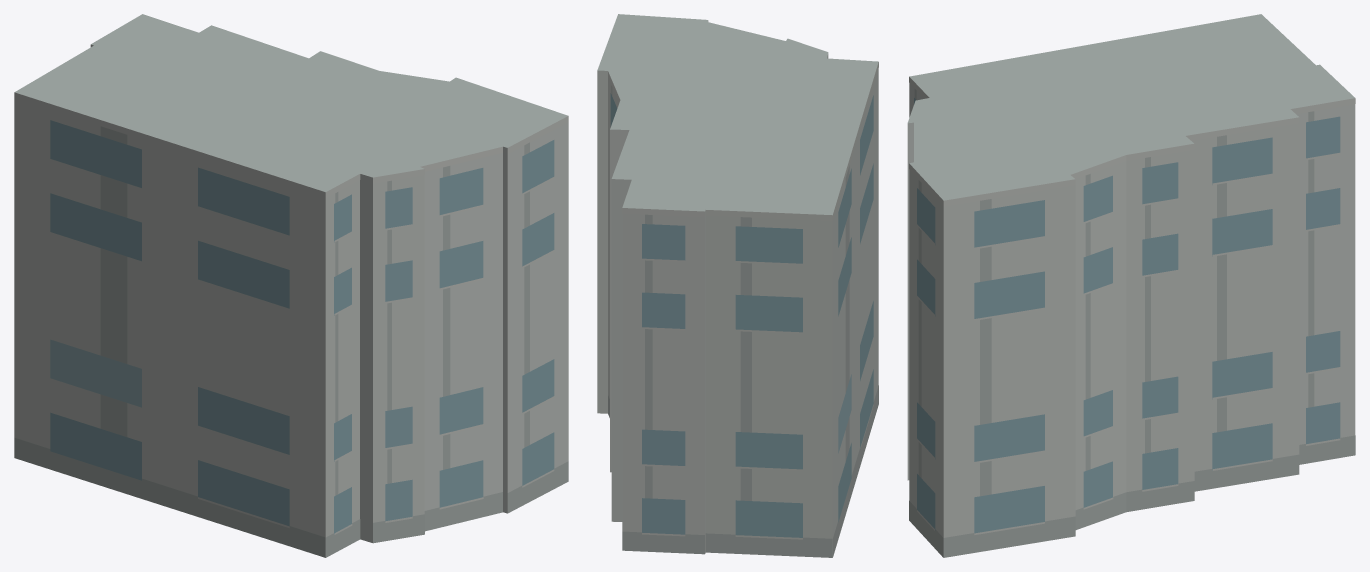
The model's file is survey-upis-32535520.glb.
3 views of the same model, side by side, from view 1: azimuth 30°, elevation 25°; view 2: azimuth 150°, elevation 25°; view 3: azimuth 270°, elevation 25° (orthographic). The views are drawn at different scales.
Visible parts, largest first — view 1: survey-upis-32535520.tmp; view 2: survey-upis-32535520.tmp; view 3: survey-upis-32535520.tmp.
Part boxes in pixels (x1=…): survey-upis-32535520.tmp: x1=14, y1=14, x2=568, y2=557; survey-upis-32535520.tmp: x1=597, y1=14, x2=878, y2=557; survey-upis-32535520.tmp: x1=907, y1=14, x2=1355, y2=557.
Size of the model in its own units: 16.15 by 14.4 by 16.38.
